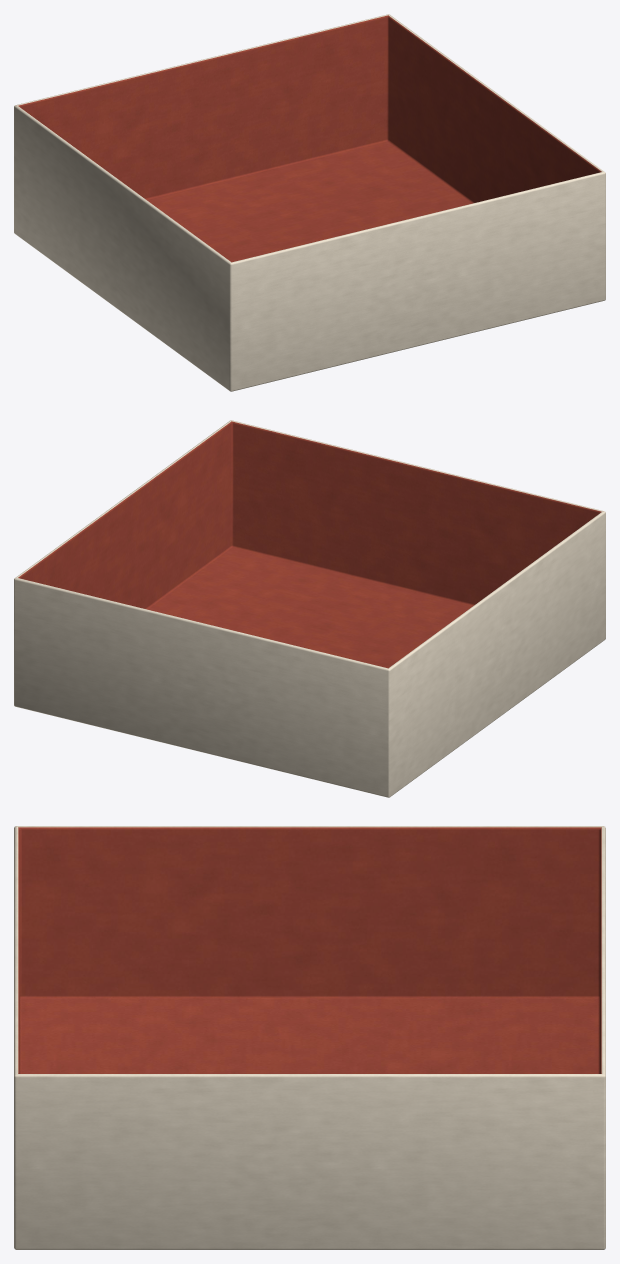
File: praaniva-kit-box-base.glb
3 views of the same model, one above another, from view 1: azimuth 30°, elevation 25°; view 2: azimuth 150°, elevation 25°; view 3: azimuth 270°, elevation 25° (orthographic). The views are drawn at different scales.
Visible parts, largest first — view 1: Box_Base; view 2: Box_Base; view 3: Box_Base.
Boxes of the visible parts, x1,y1,x2,y2 form: Box_Base: (14,14,605,391); Box_Base: (14,420,605,797); Box_Base: (14,826,605,1249).
Bounding box in the file's own units: 0.26 × 0.085 × 0.26.
Materials: 3 (3 with a texture image).
